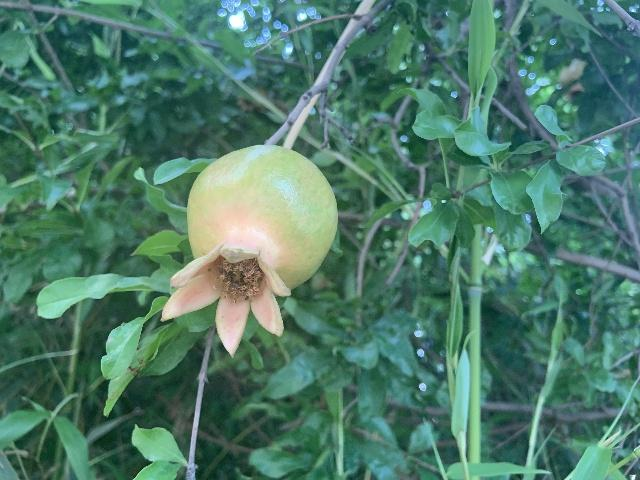mid-growth: (159, 144, 337, 357)
